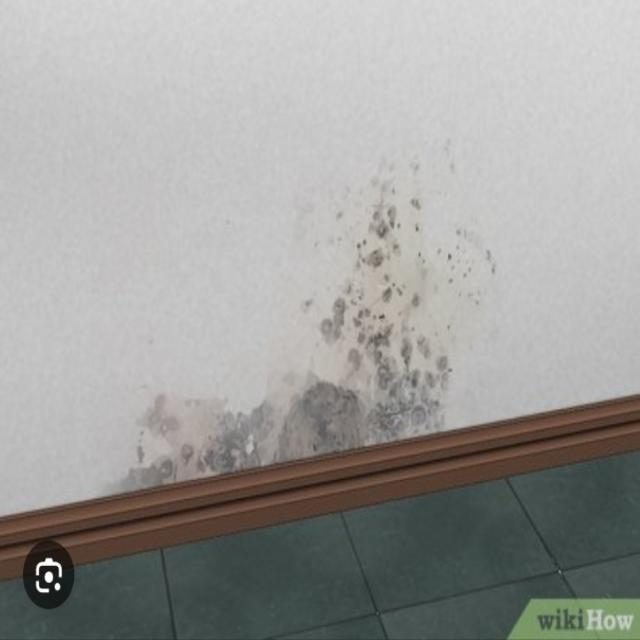wall_leaking: (77, 105, 520, 501)
